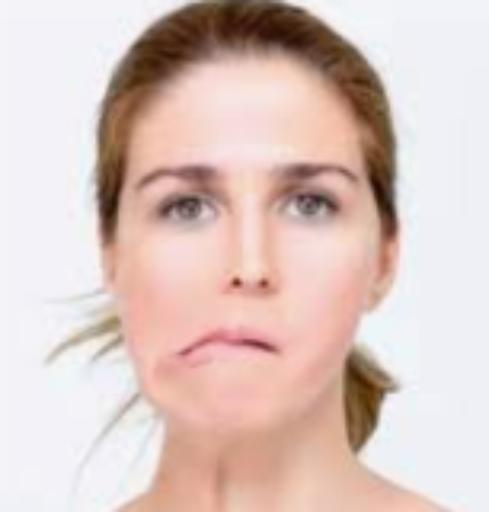left_eye: (279, 191, 343, 227)
left_lip_corner: (262, 337, 295, 362)
right_eye: (150, 196, 222, 229)
right_lip_corner: (166, 341, 200, 366)
